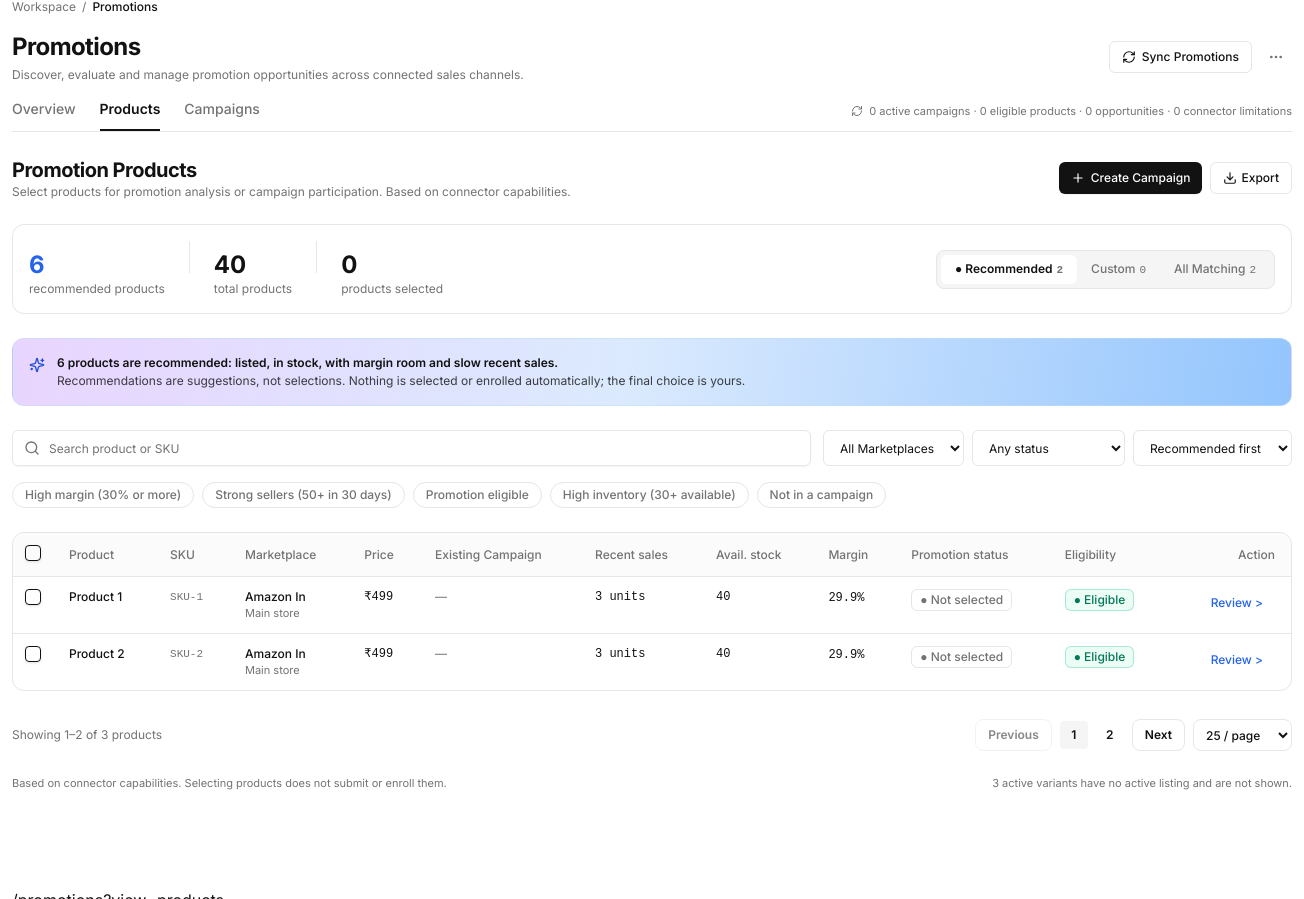
Test: Products tab › pages on the server and shows a real pager
The image size is (1304, 899).
Expected: the text "Product 1" is shown, [69,589,122,604]
Expected: the text "Showing 1–2 of 3 products" is shown, [12,727,162,743]
Click the button "Next".
click(1158, 735)  # box [1132,719,1185,751]
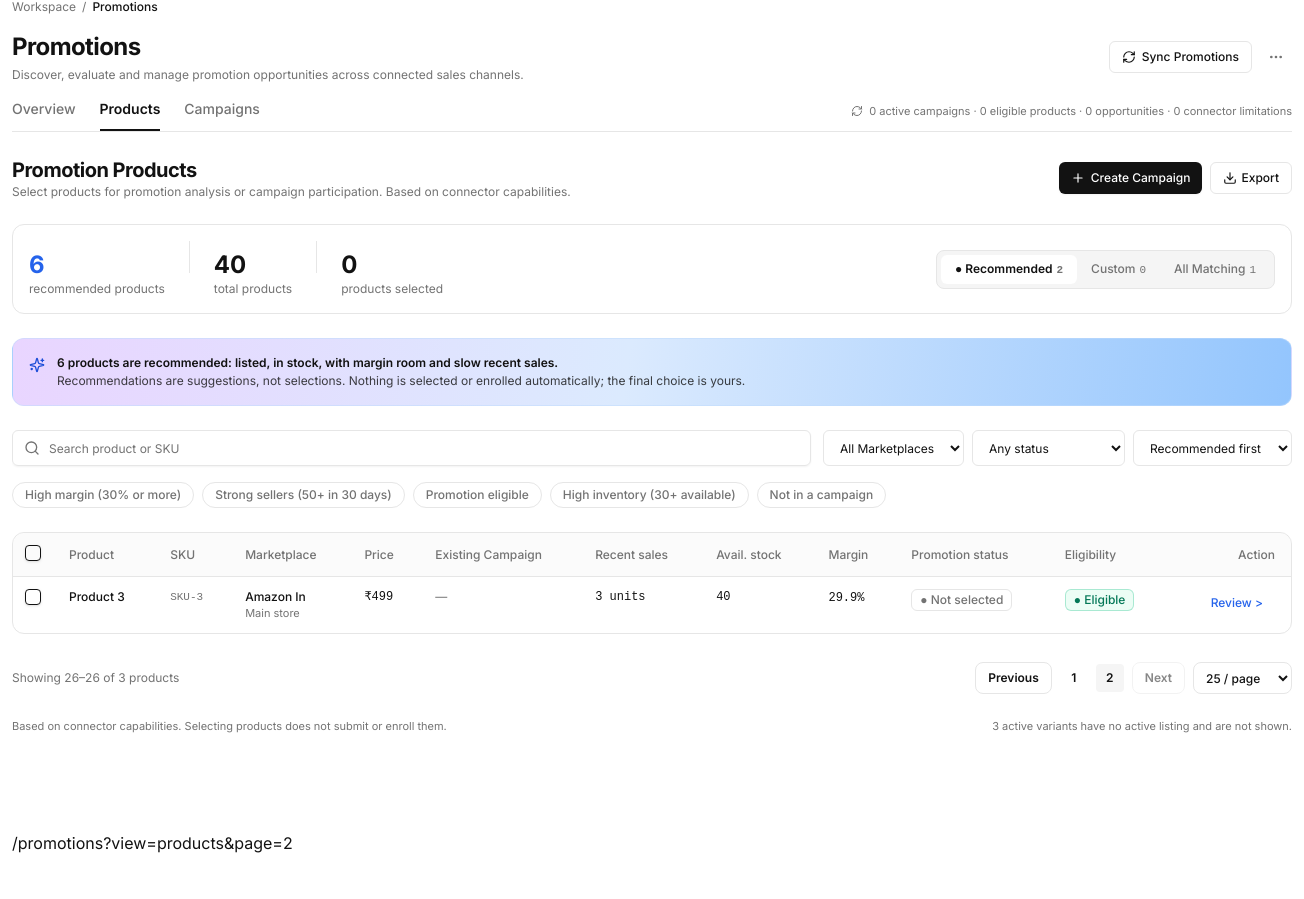
Now the text with test id "loc" shows "page=2", box [12,832,293,852]
Now the text "Product 3" is shown, box [69,589,125,604]
Select "50 / page" in the dropdown named "Rows per page" at (1242, 678), box [1193,662,1292,694]
(page scrolled)
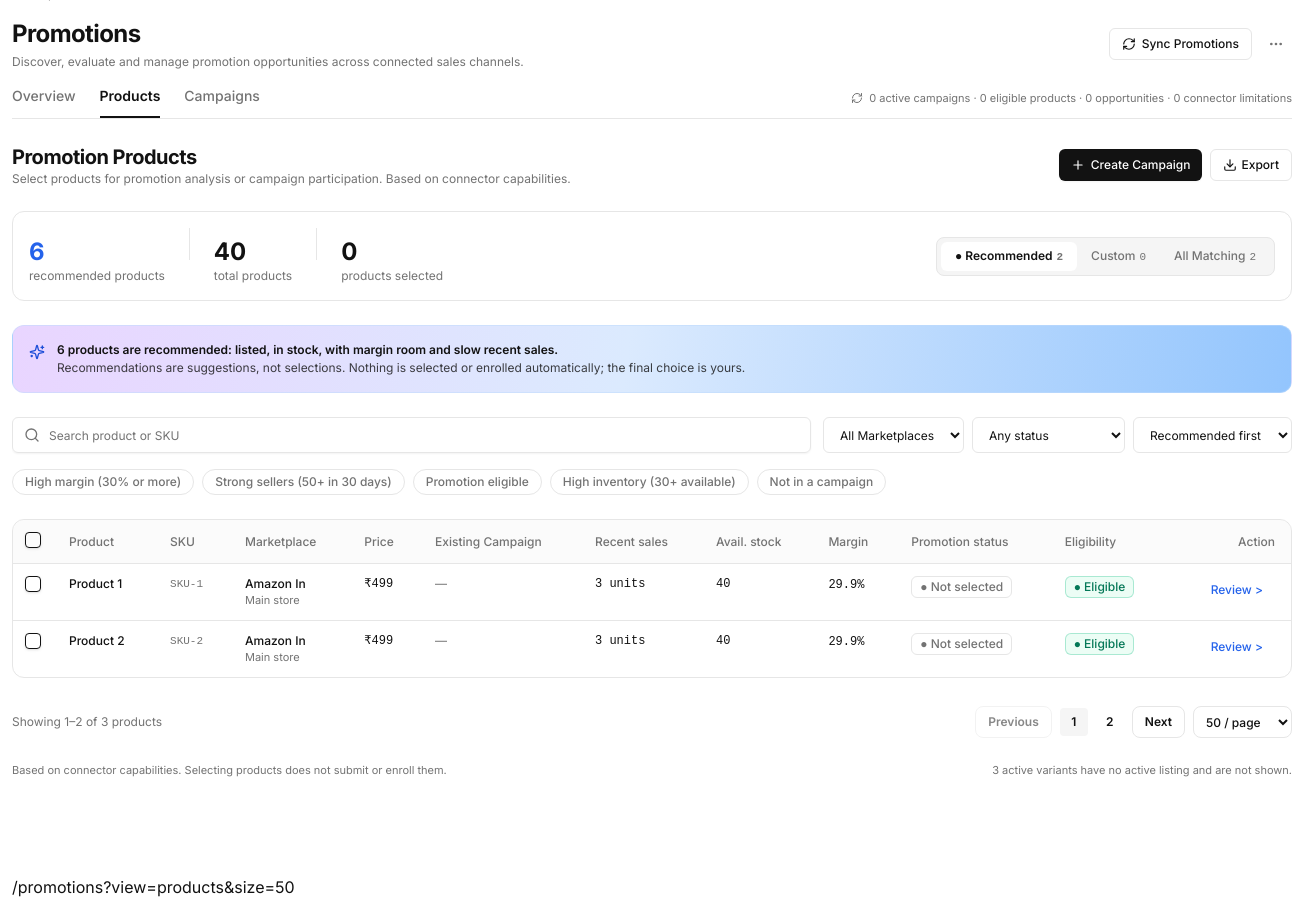
Now the text with test id "loc" shows "size=50", box [12,876,295,896]
Now the text with test id "loc" no longer shows "page=2"
